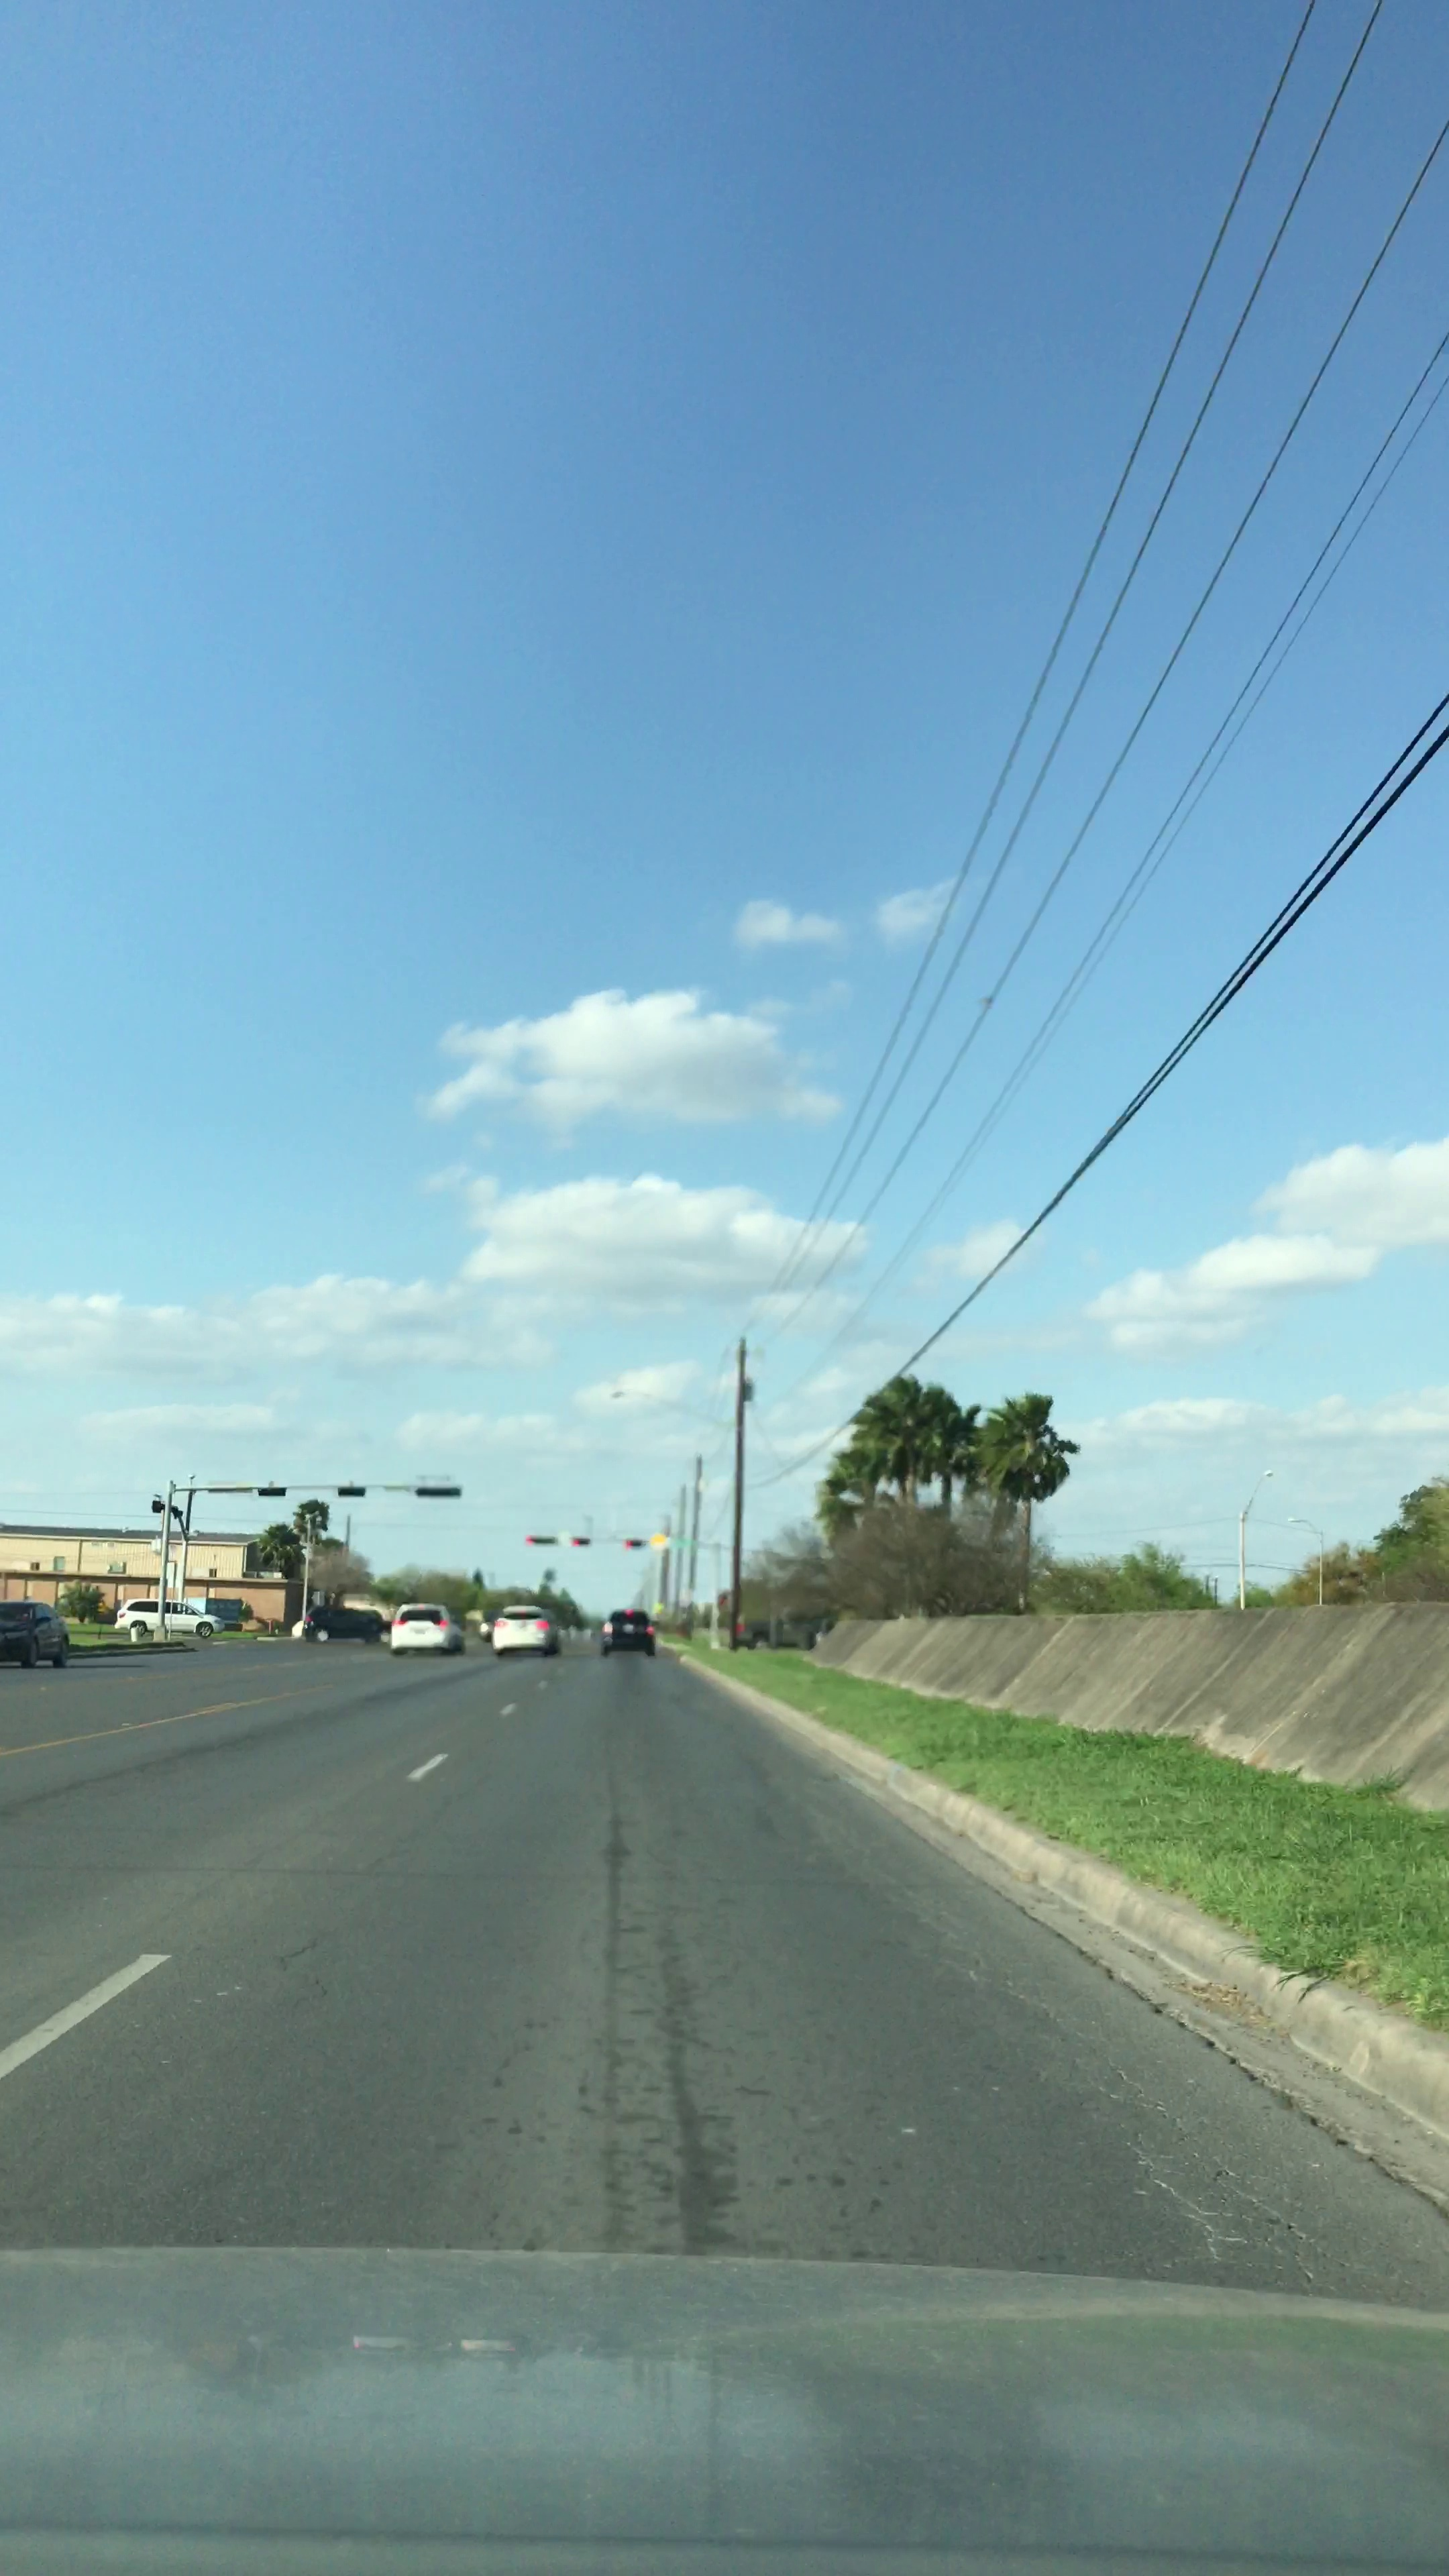alligatorCrack: (1001, 1992, 1306, 2289), (828, 1812, 1012, 1990)
crack: (262, 1925, 366, 2056)
